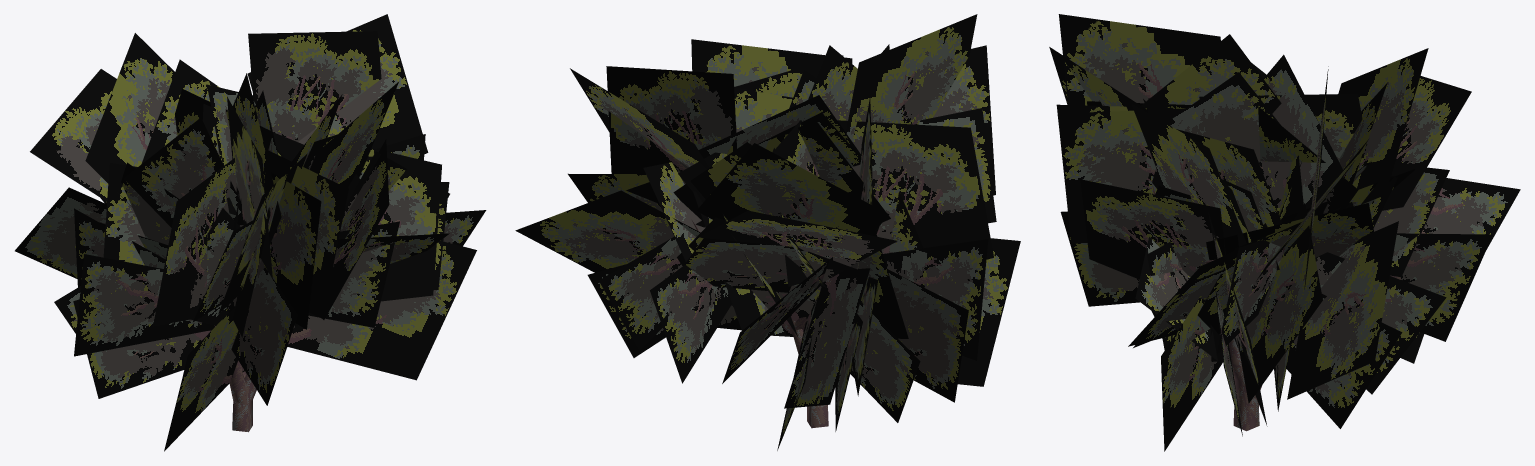
Rendered from tree small.glb.
The picture shows the model from 3 angles, left to right: view 1: azimuth 30°, elevation 25°; view 2: azimuth 150°, elevation 25°; view 3: azimuth 270°, elevation 25°; orthographic projection. The views are drawn at different scales.
Parts seen in each view (by area): view 1: leaves, tree.001; view 2: leaves, tree.001; view 3: leaves, tree.001.
Part boxes in pixels (bbox=[...]): leaves: bbox=[15, 14, 486, 451]; tree.001: bbox=[229, 360, 256, 432]; leaves: bbox=[515, 14, 1020, 450]; tree.001: bbox=[692, 220, 828, 428]; leaves: bbox=[1049, 14, 1520, 451]; tree.001: bbox=[1152, 185, 1261, 431].
Bounding box in the file's own units: 11.96 × 10.45 × 11.46.
2 materials, 2 textured.
